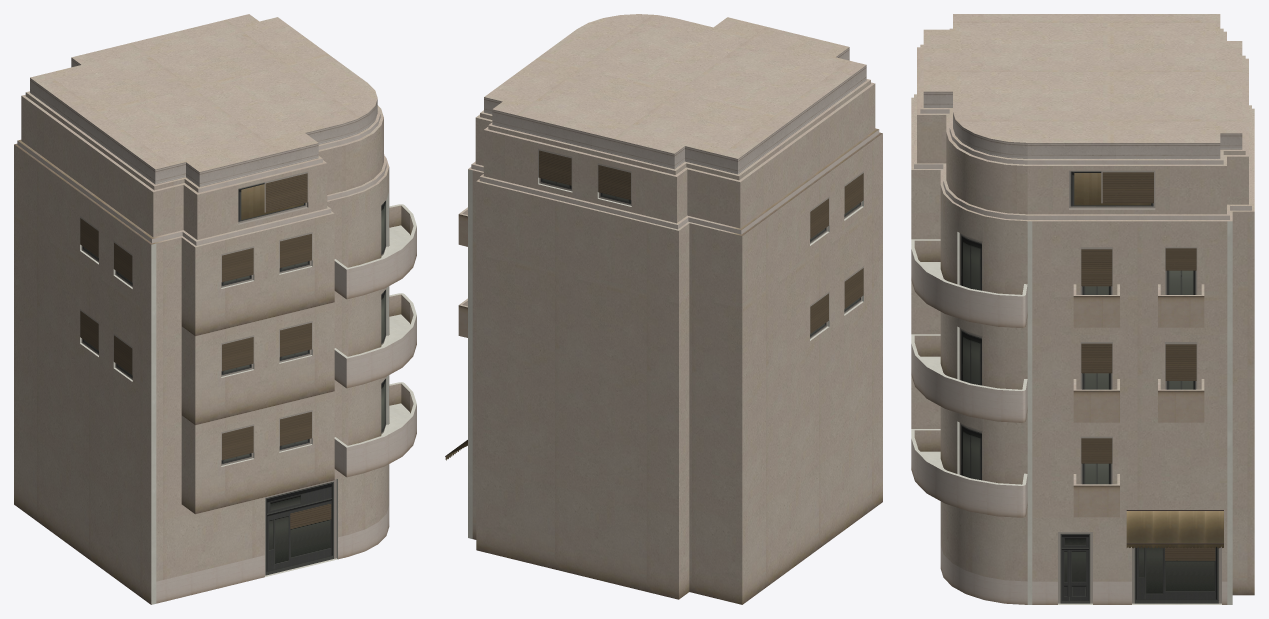
File: town.glb
The picture shows the model from 3 angles, left to right: view 1: azimuth 30°, elevation 25°; view 2: azimuth 150°, elevation 25°; view 3: azimuth 270°, elevation 25°; orthographic projection. The views are drawn at different scales.
Visible parts, largest first — view 1: Material3 (×8), Material2 (×3); view 2: Material3 (×6), Material2 (×2); view 3: Material3 (×9), Material2 (×3).
Part boxes in pixels (bbox=[...]): Material3 (×8): bbox=[14, 14, 416, 604]; Material2 (×3): bbox=[80, 171, 312, 460]; Material3 (×6): bbox=[458, 14, 882, 604]; Material2 (×2): bbox=[538, 148, 863, 333]; Material3 (×9): bbox=[911, 14, 1254, 604]; Material2 (×3): bbox=[1074, 170, 1223, 548].
Size of the model in its own units: 12.21 by 17 by 11.58.
16 materials, 14 textured.
